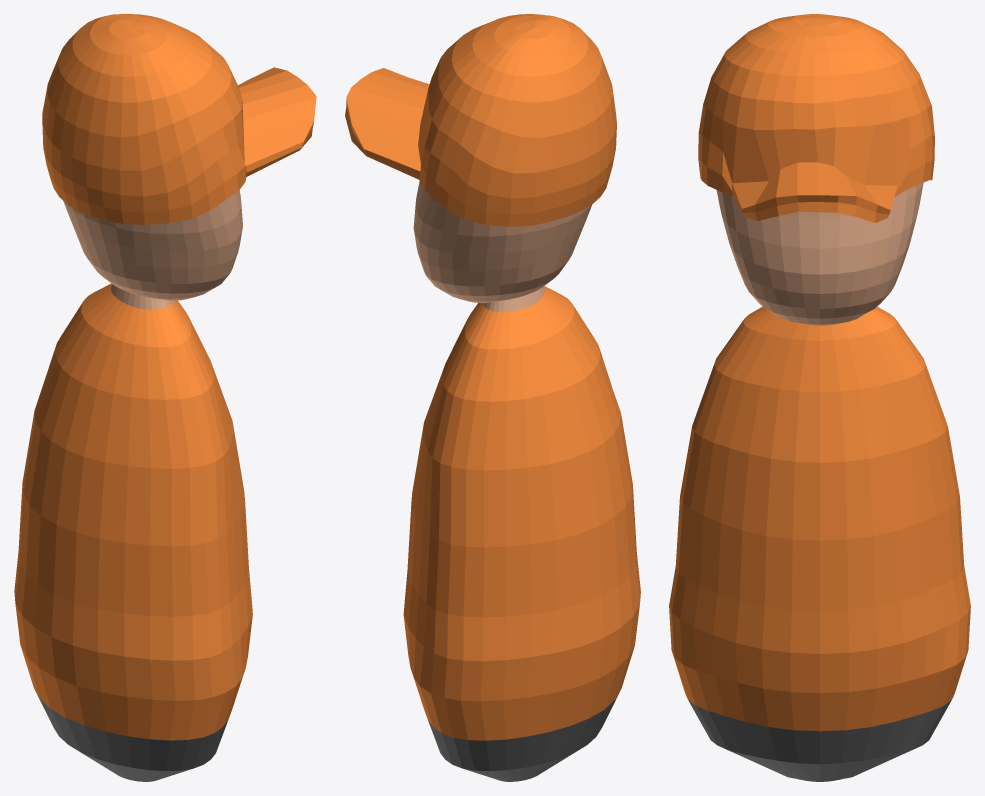
File: Player.fbx
3 views of the same model, side by side, from view 1: azimuth 30°, elevation 25°; view 2: azimuth 150°, elevation 25°; view 3: azimuth 270°, elevation 25° (orthographic).
Parts seen in each view (by area): view 1: Cylinder, Sphere.001, Sphere; view 2: Cylinder, Sphere.001, Sphere; view 3: Cylinder, Sphere.001, Sphere.
Part boxes in pixels (x1,y1,x2,y2): Cylinder: (14,283,252,781); Sphere.001: (42,14,316,224); Sphere: (63,190,242,300); Cylinder: (403,286,640,781); Sphere.001: (345,14,616,226); Sphere: (413,181,592,303); Cylinder: (669,306,970,781); Sphere.001: (698,14,934,222); Sphere: (716,182,923,325).
Bounding box in the file's own units: 693 × 1884 × 683.
